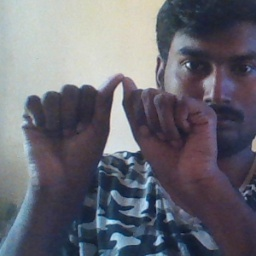A: (53, 71, 189, 165)
